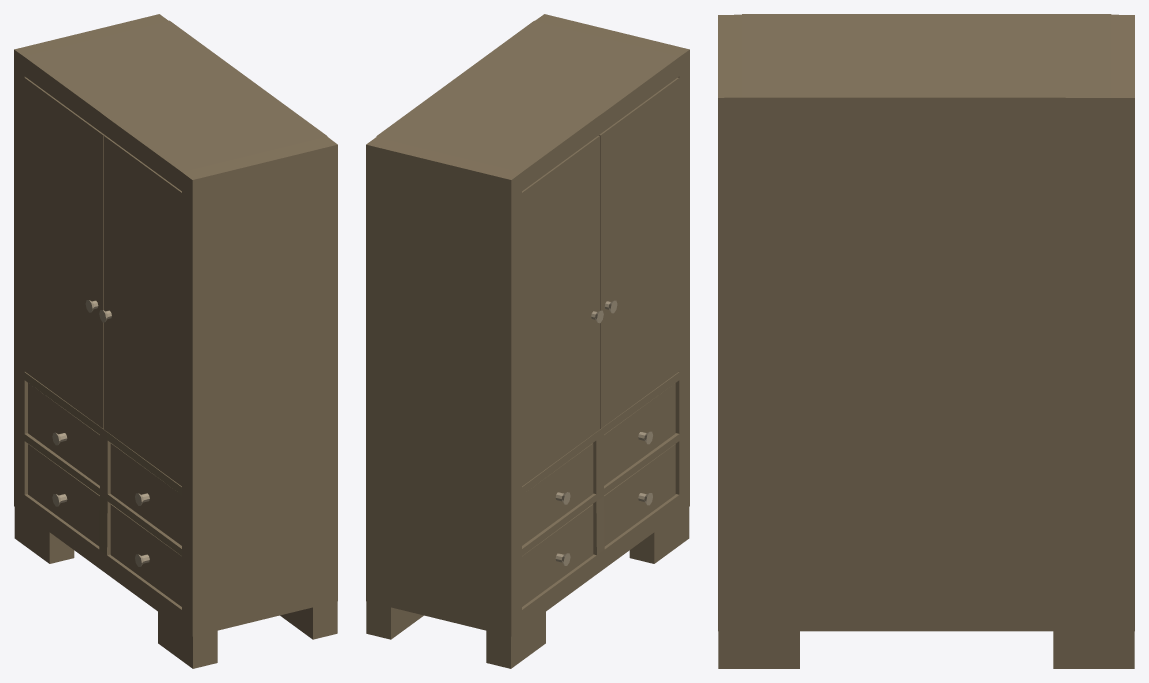
The model's file is bedRoom_closet.fbx.
The picture shows the model from 3 angles, left to right: view 1: azimuth 30°, elevation 25°; view 2: azimuth 150°, elevation 25°; view 3: azimuth 270°, elevation 25°; orthographic projection. The views are drawn at different scales.
Parts seen in each view (by area): view 1: Cube, Cube.001, Cube.003, Plane, Cube.005, Cube.006, Cube.002, Cube.004, Cube.011, Cube.007, Cube.010; view 2: Cube, Cube.003, Cube.001, Plane, Cube.006, Cube.005, Cube.002, Cube.004, Cube.007, Cube.011, Cube.009; view 3: Cube, Plane, Cube.009, Cube.010.
Boxes of the visible parts, box(x1,y1,x2,y2) form: Cube: box(14, 14, 337, 636); Cube.001: box(24, 77, 104, 428); Cube.003: box(103, 135, 181, 486); Plane: box(24, 20, 327, 171); Cube.005: box(28, 444, 99, 546); Cube.006: box(110, 504, 181, 606); Cube.002: box(110, 443, 181, 545); Cube.004: box(28, 383, 99, 485); Cube.011: box(158, 612, 217, 668); Cube.007: box(14, 507, 74, 563); Cube.010: box(280, 601, 337, 639); Cube: box(366, 14, 689, 636); Cube.003: box(598, 77, 679, 428); Cube.001: box(522, 135, 599, 486); Plane: box(376, 20, 679, 171); Cube.006: box(604, 444, 675, 546); Cube.005: box(522, 504, 593, 606); Cube.002: box(604, 383, 675, 485); Cube.004: box(522, 443, 593, 545); Cube.007: box(486, 612, 545, 668); Cube.011: box(629, 507, 689, 563); Cube.009: box(366, 601, 423, 639); Cube: box(718, 14, 1134, 631); Plane: box(742, 14, 1111, 96); Cube.009: box(1053, 631, 1134, 668); Cube.010: box(718, 631, 799, 668).
Size of the model in its own units: 83.84 by 257 by 170.
